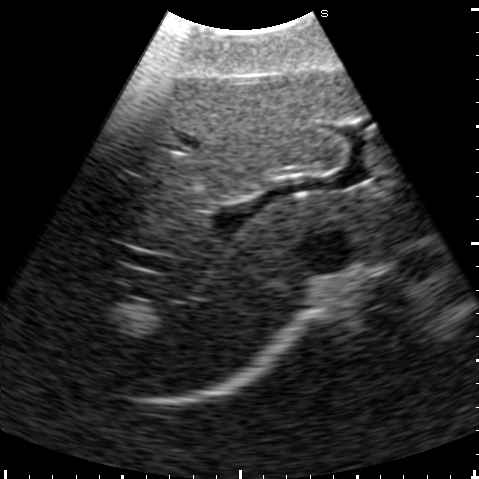IVC: (298, 232, 350, 270)
S1: (328, 195, 404, 248)
S2: (377, 177, 427, 217)
S3: (345, 73, 406, 180)
S4: (136, 70, 349, 198)
Tumor: (112, 304, 160, 334)
